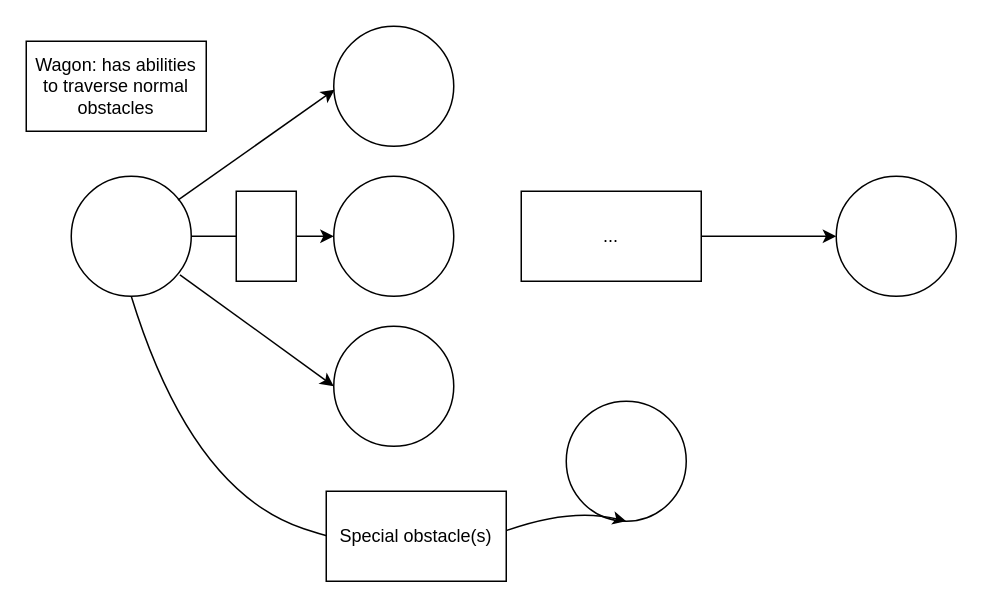
Some shapes in this 983 by 608 pixel diagram are drawn without their labels. The centre of each missing label's shape, as x and y in pixels:
Boss: point (895, 235)
obstacle: point (265, 235)
